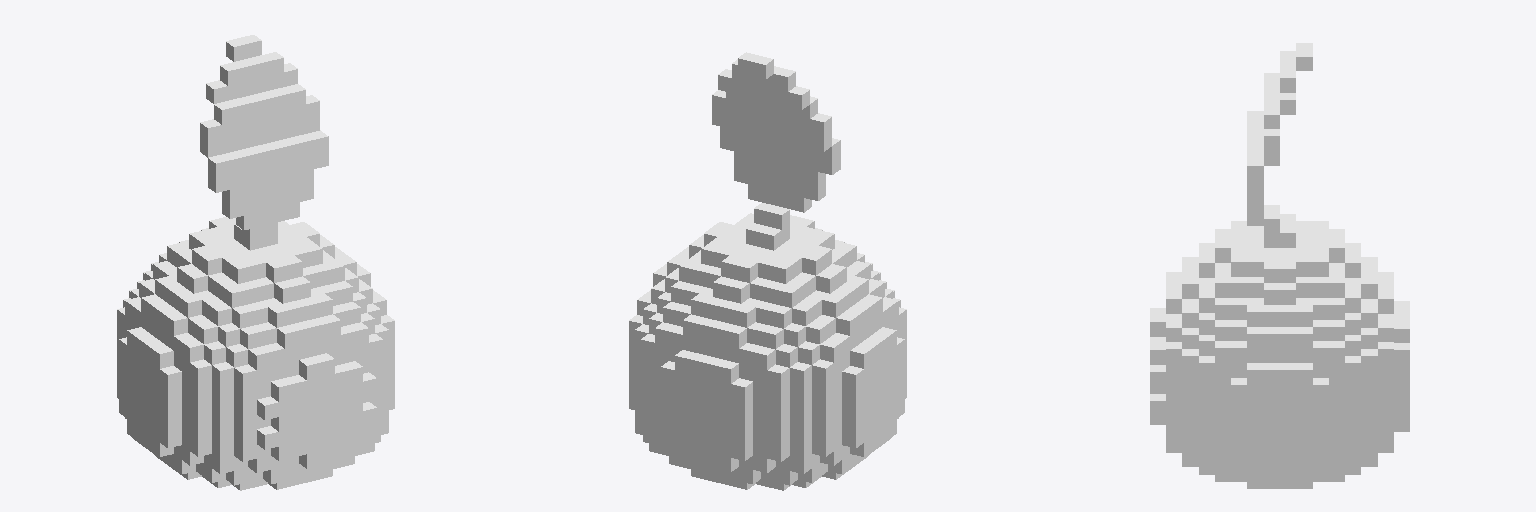
Rendered from deadgel.obj.
The picture shows the model from 3 angles: view 1: azimuth 30°, elevation 25°; view 2: azimuth 150°, elevation 25°; view 3: azimuth 270°, elevation 25°; orthographic projection.
Parts seen in each view (by area): view 1: object 1; view 2: object 1; view 3: object 1.
Boxes of the visible parts, box(x1,y1,x2,y2) form: object 1: box(117, 35, 394, 490); object 1: box(629, 52, 906, 490); object 1: box(1150, 43, 1409, 488).
Size of the model in its own units: 1.6 by 2.8 by 1.6.